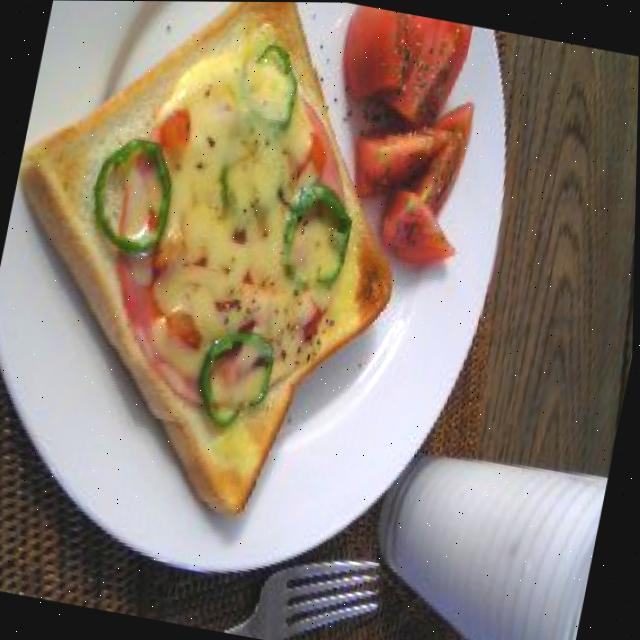面包点心: (0, 0, 455, 554)
